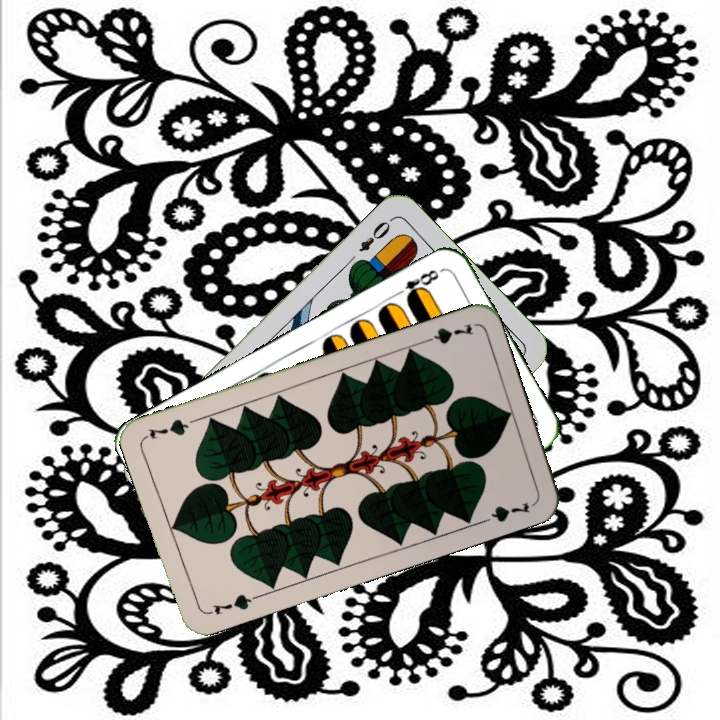E8: (390, 265, 445, 304)
EO: (354, 217, 393, 255)
G7: (418, 319, 476, 347), (203, 590, 260, 618)
